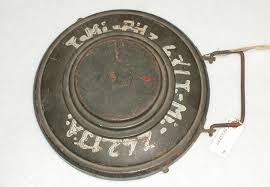car: (16, 2, 261, 187)
